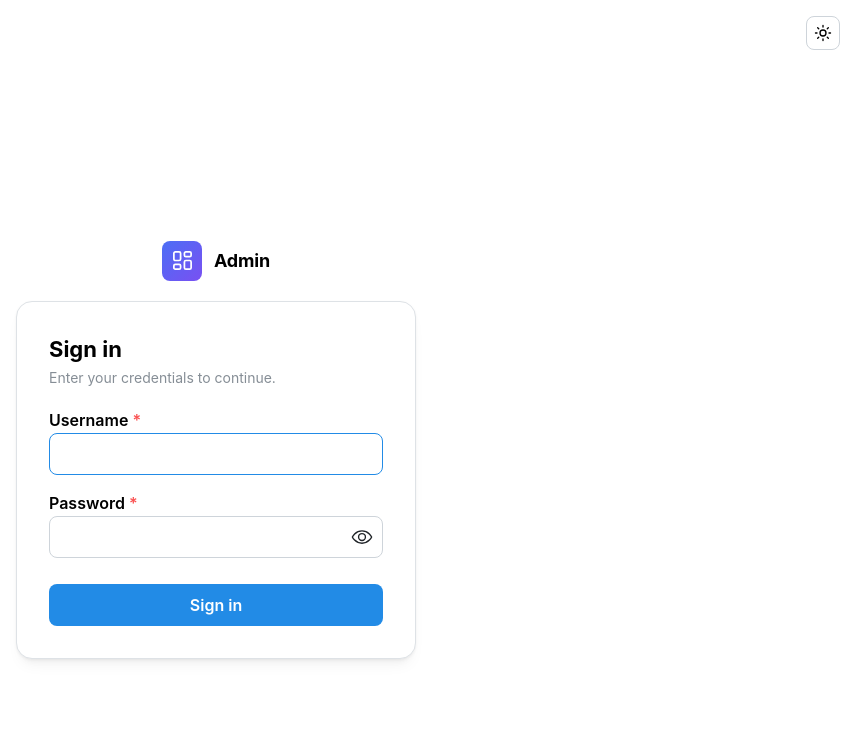
Test: a challenged sign-in › does not ask for a code an enrolment challenge never sent
Type "root" into the field labelled "Username *". click: (216, 454)
box: [49,433,383,475]
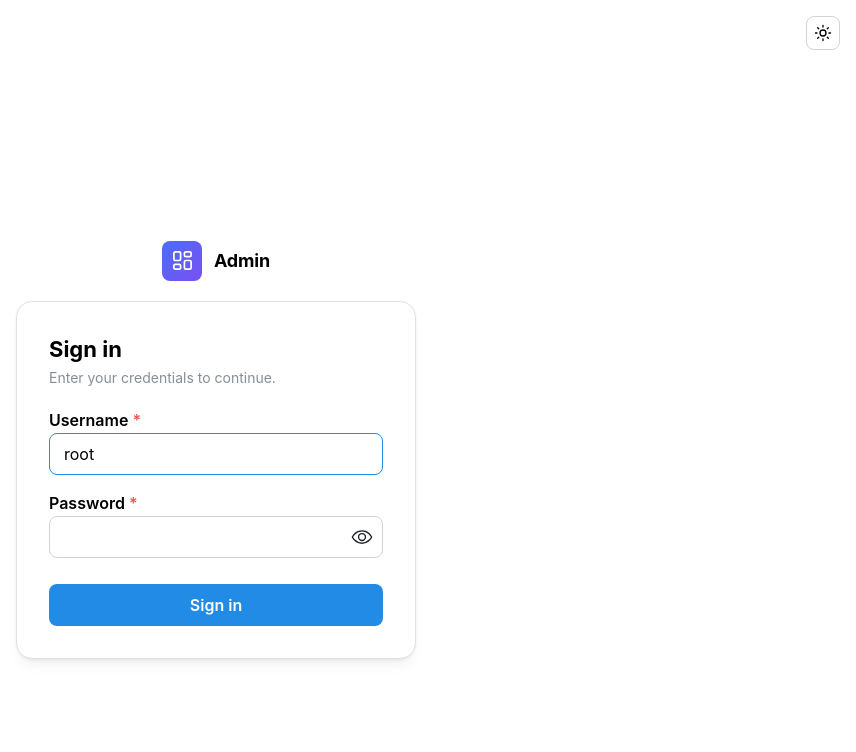
Type "hunter2" into the password field labelled "Password *". click: (216, 537)
box: [50,517,382,557]
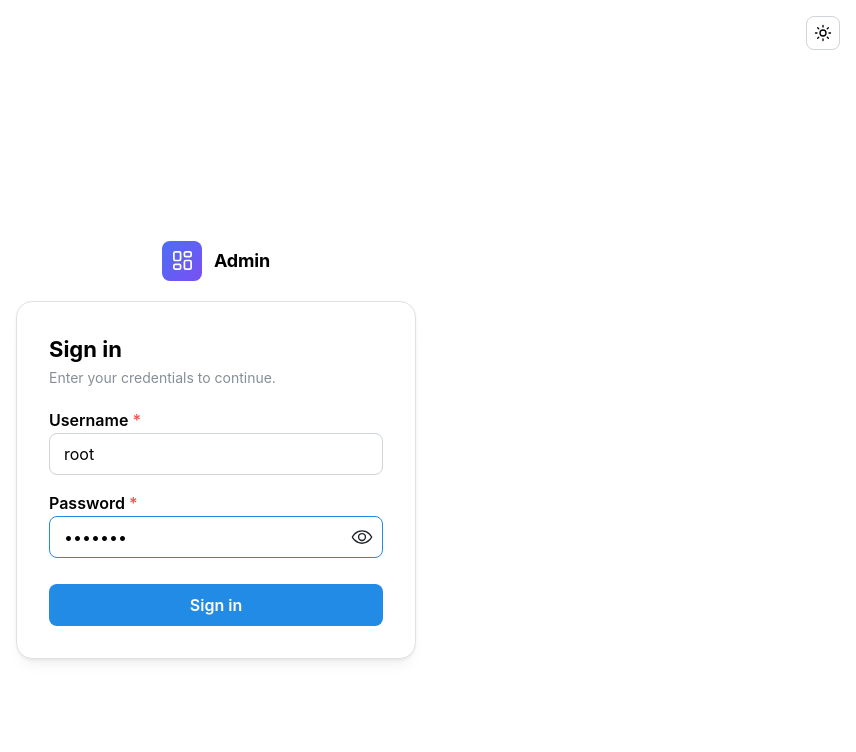
Click the button "Sign in". click: click(216, 605)
box: [49,584,383,626]
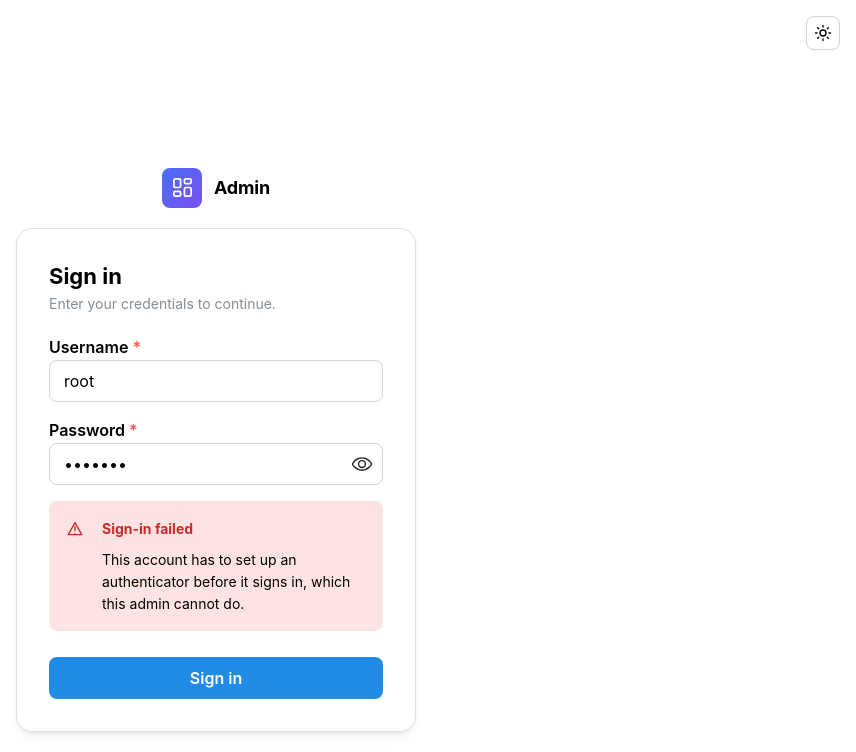
Now the text "set up an authenticator" is shown, box [102,551,350,612]
